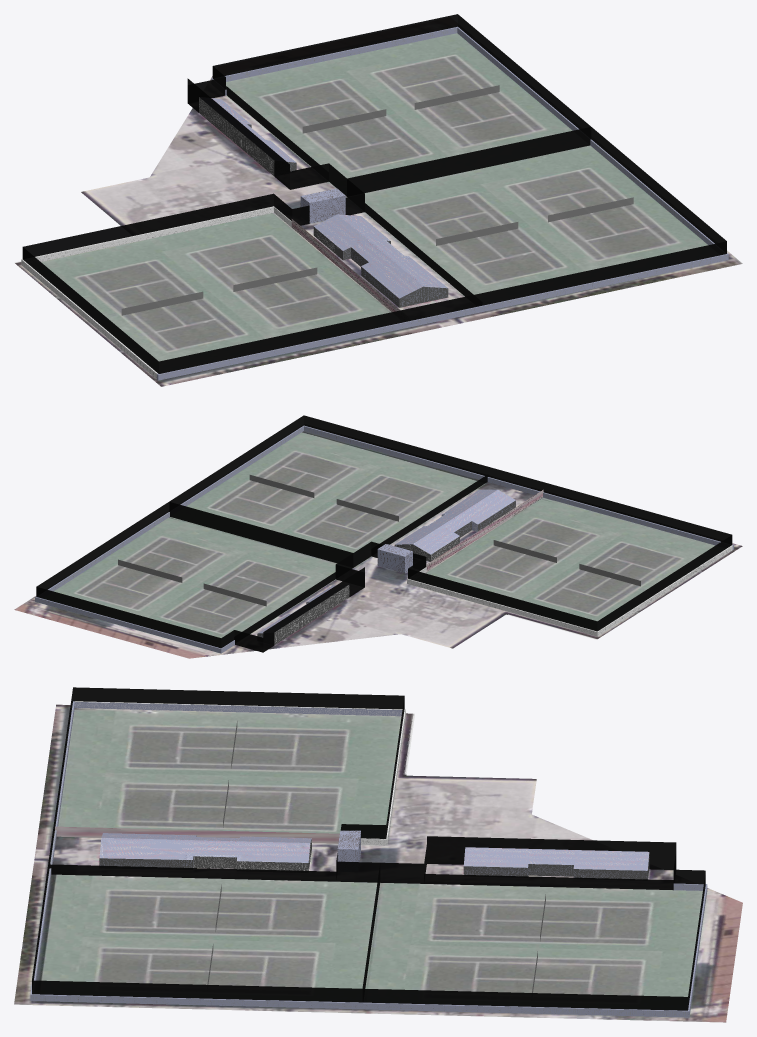
Rendered from tennis-center.fbx.
3 views of the same model, one above another, from view 1: azimuth 30°, elevation 25°; view 2: azimuth 150°, elevation 25°; view 3: azimuth 270°, elevation 25° (orthographic). The views are drawn at different scales.
Parts seen in each view (by area): view 1: D_9876_Tennis_Center1; view 2: D_9876_Tennis_Center1; view 3: D_9876_Tennis_Center1.
Part boxes in pixels (x1,y1,x2,y2): D_9876_Tennis_Center1: [14, 14, 742, 386]; D_9876_Tennis_Center1: [14, 415, 742, 658]; D_9876_Tennis_Center1: [14, 687, 742, 1022].
Size of the model in its own units: 32.54 by 1.32 by 31.53.
Materials: 11 (5 with a texture image).
